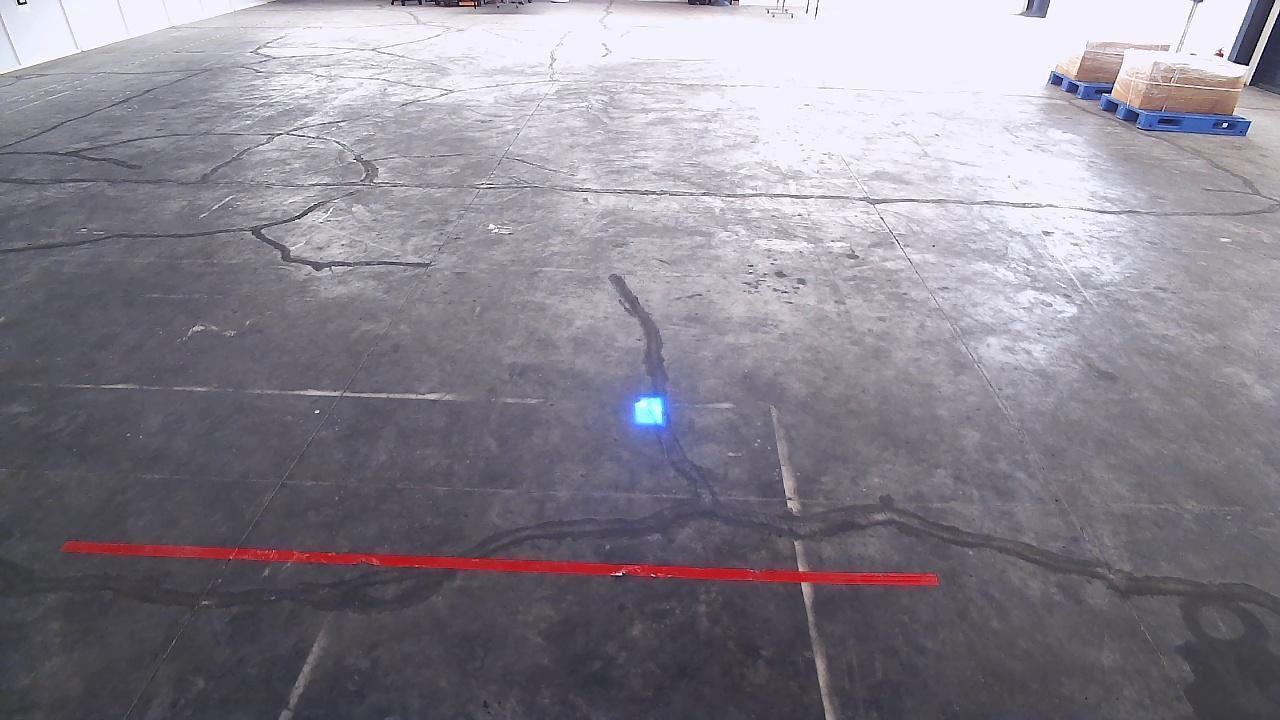red_line: (59, 541, 942, 583)
